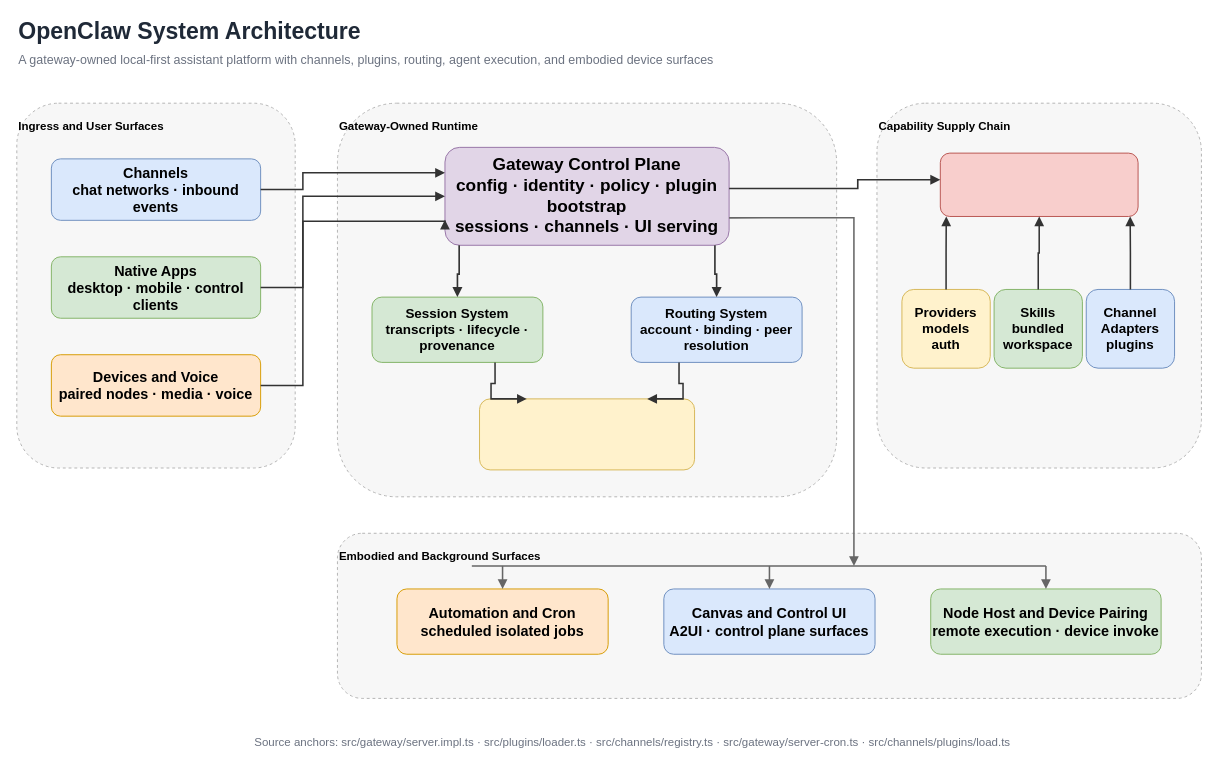
Image size: 1218x768. Some labels were removed from this diagram. Here are the shapes that lost their labels. From the top down, the centre of each, then its label:
[1038,184]: Plugin Platform discovery · manifests · activation
[587,434]: Agent Runtime Pi runtime · tools · prompts · execution
